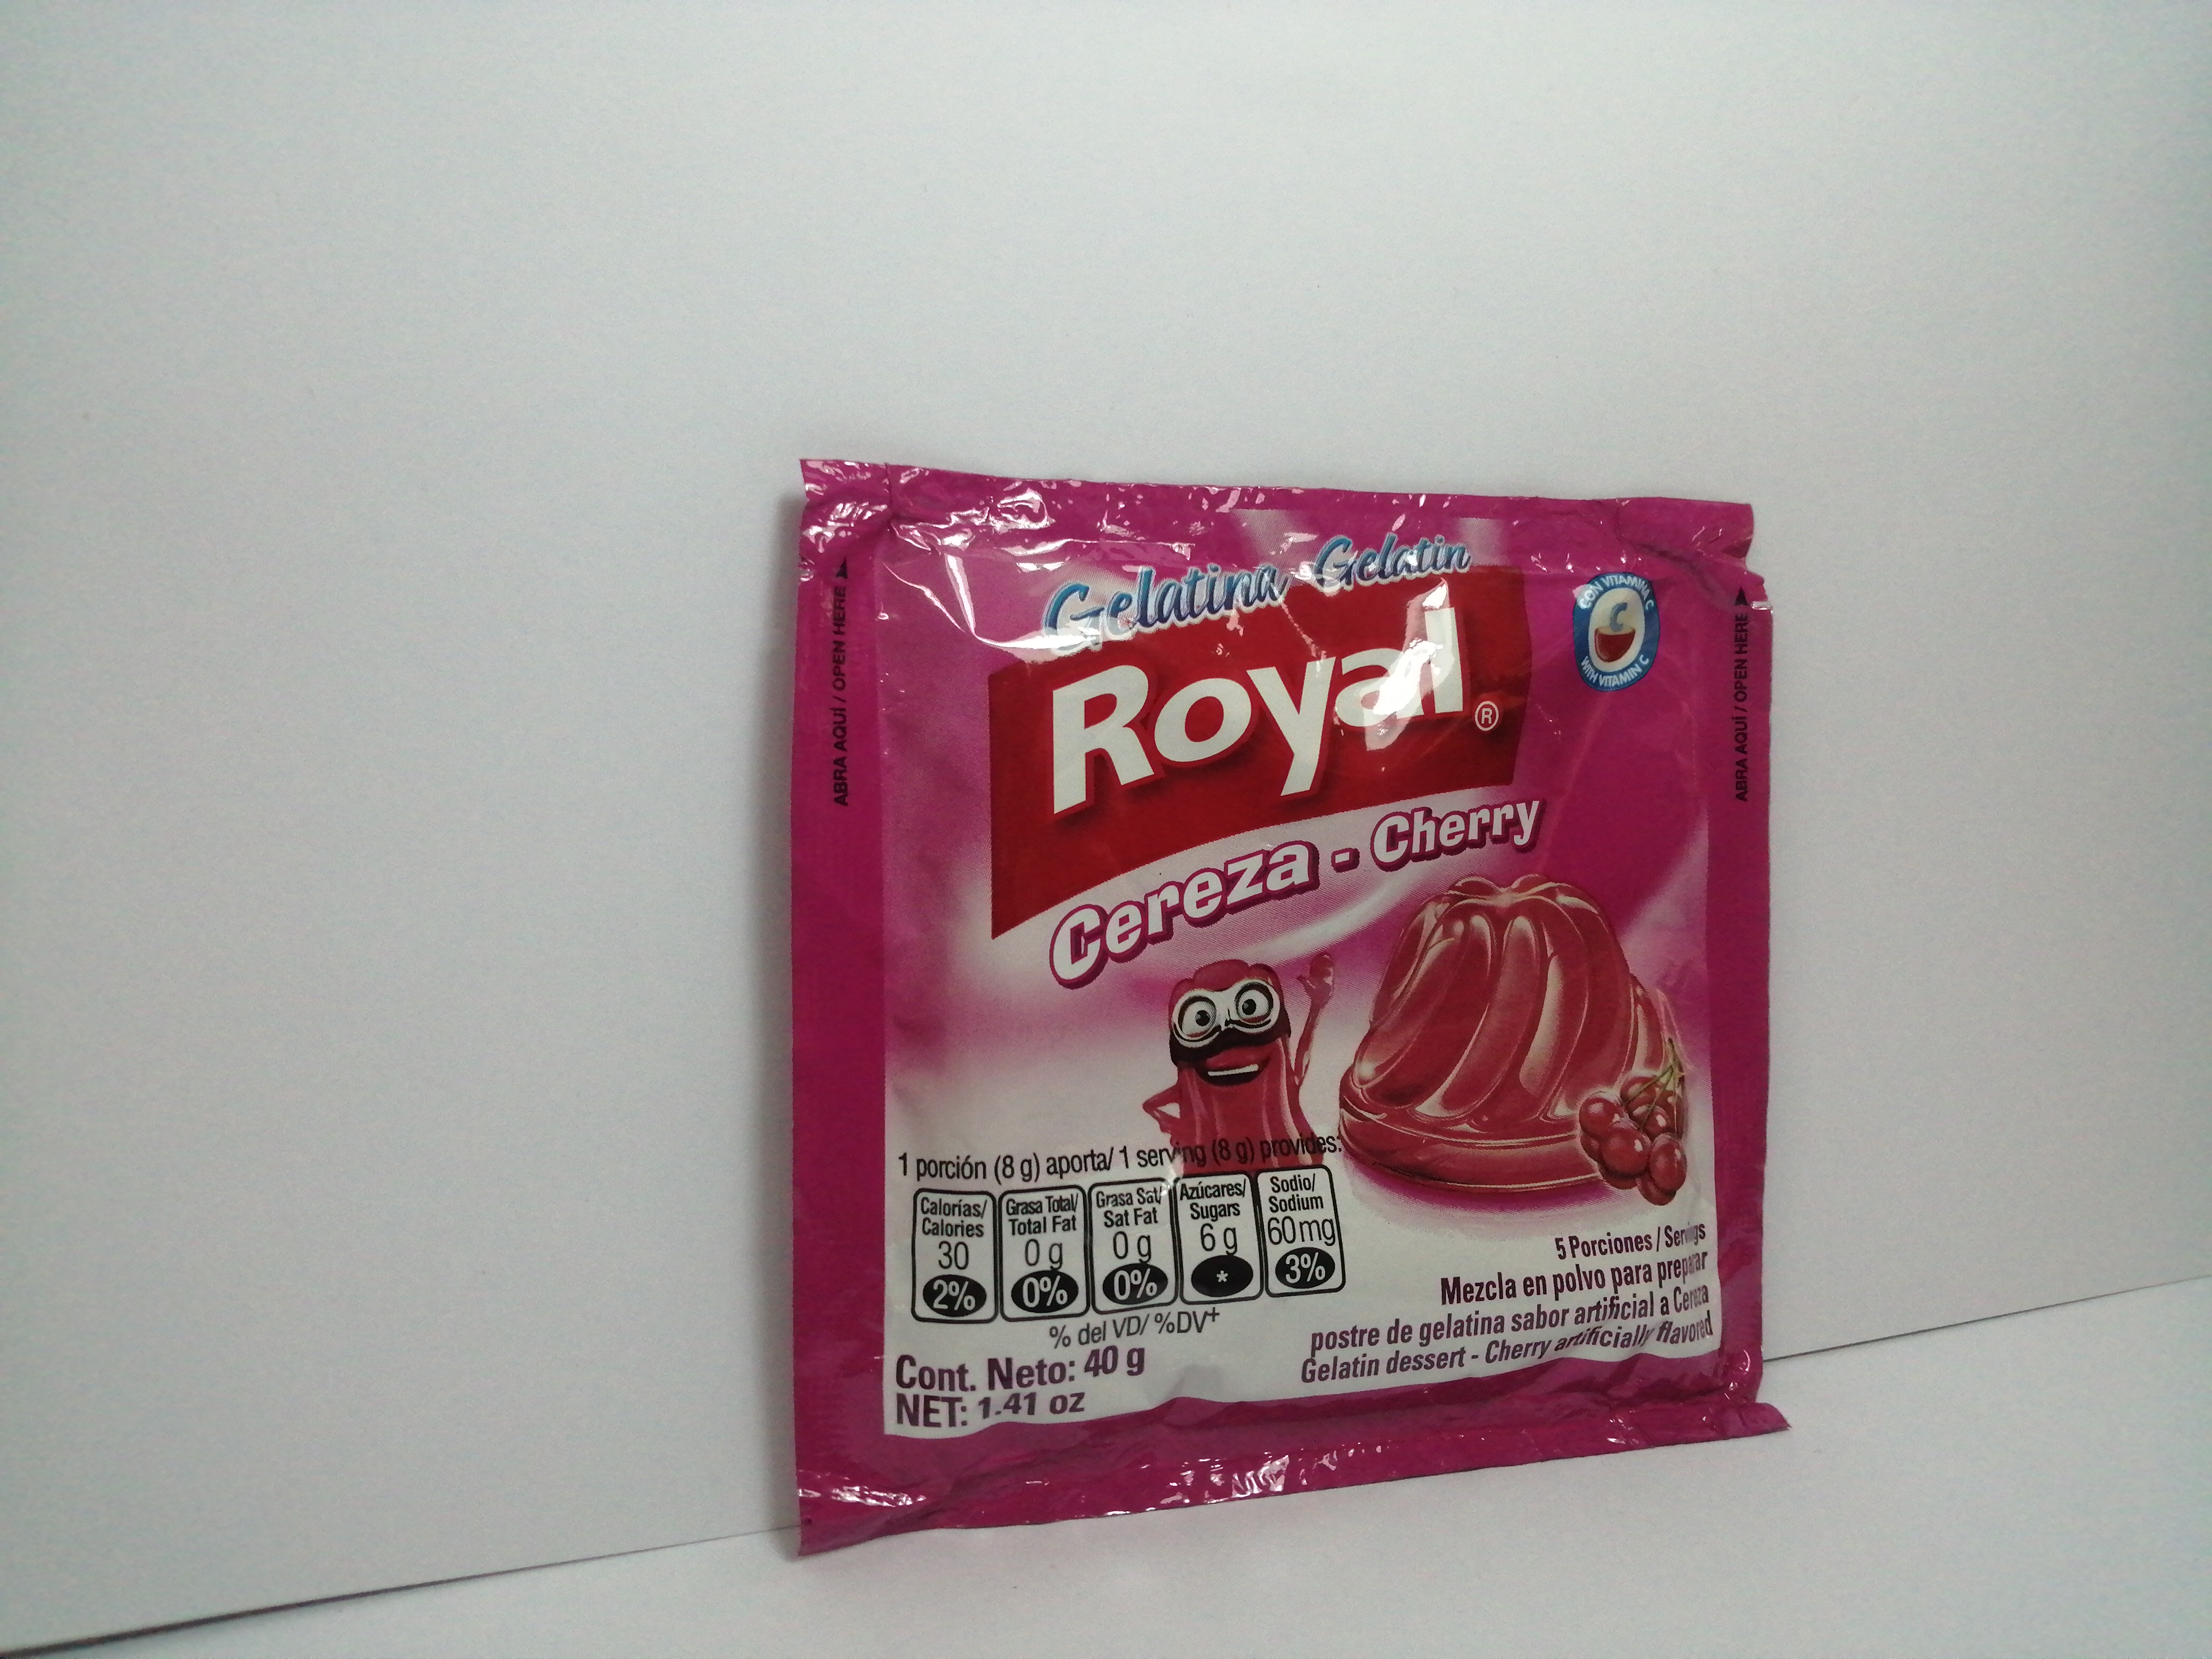gelatina: (789, 450, 1810, 1546)
